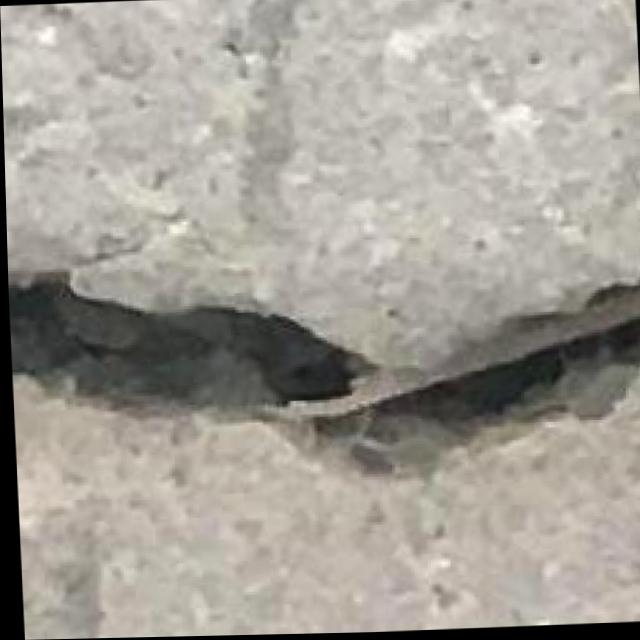Crack: (7, 226, 640, 513)
